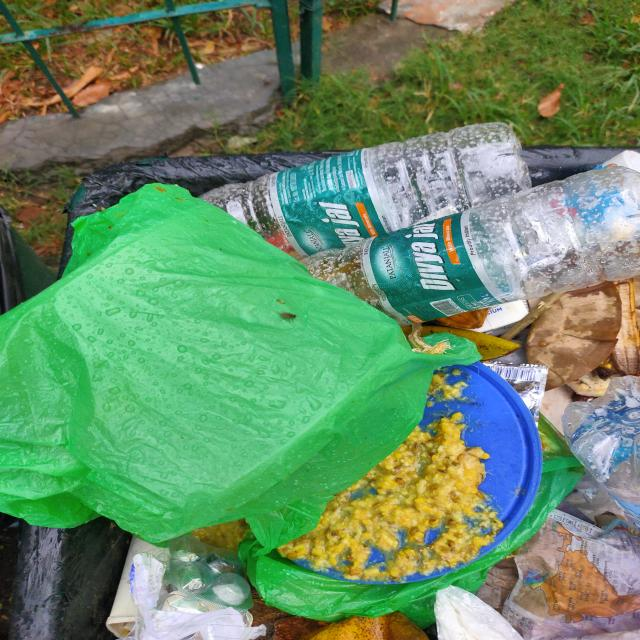B3: (6, 182, 402, 510), (221, 121, 640, 325)
